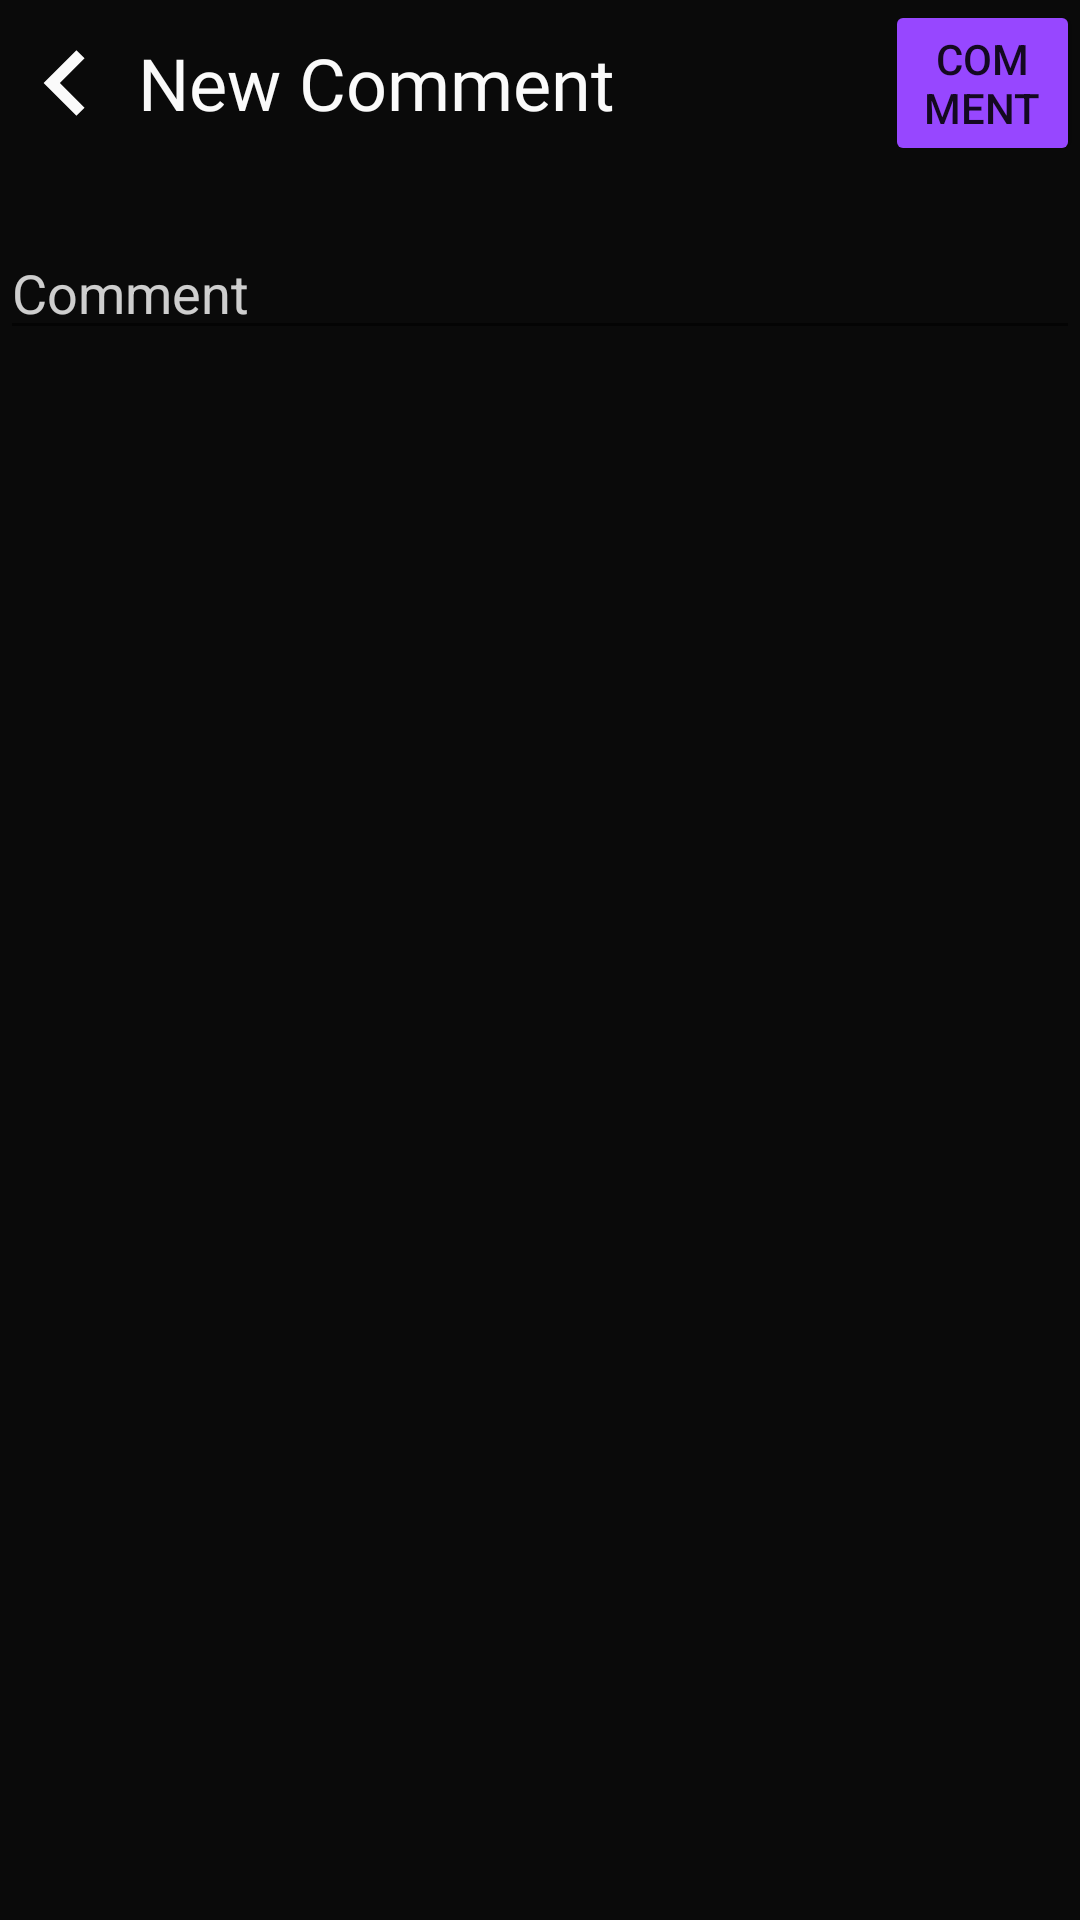

Icons on this 1080 x 1920 Android screen, each with its box as region(x1, y1, x2, y2):
back: region(44, 50, 85, 116)
